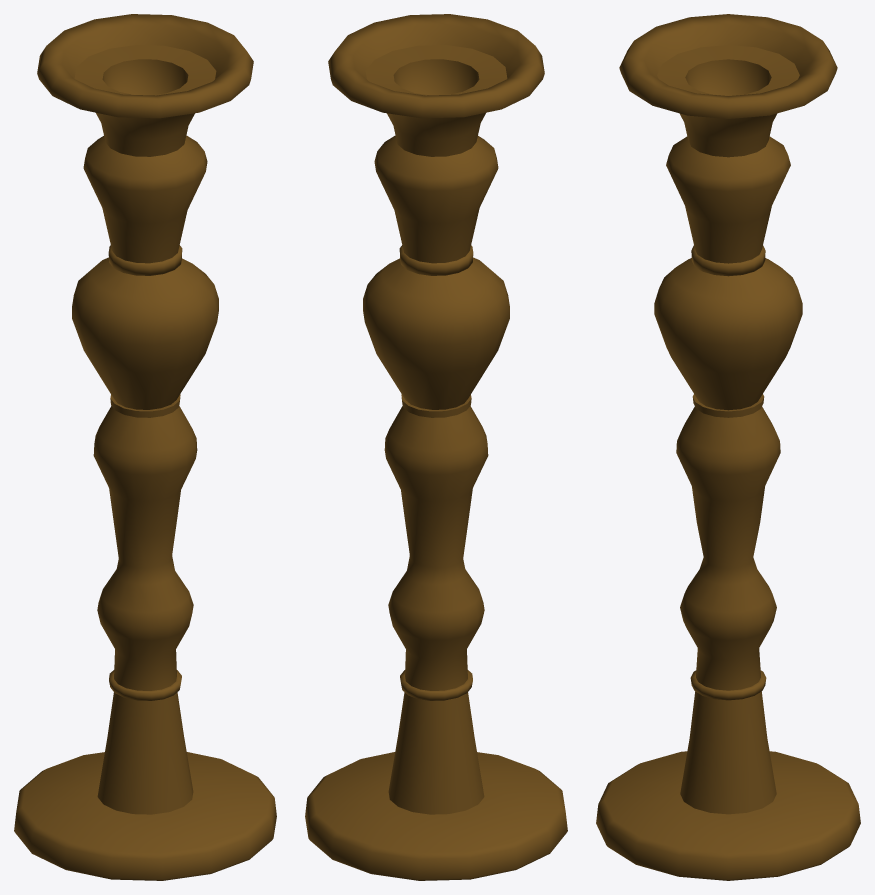
Rendered from Candle_holder_1.fbx.
The picture shows the model from 3 angles, left to right: view 1: azimuth 30°, elevation 25°; view 2: azimuth 150°, elevation 25°; view 3: azimuth 270°, elevation 25°; orthographic projection.
Parts seen in each view (by area): view 1: Candle_holder_1; view 2: Candle_holder_1; view 3: Candle_holder_1.
Part boxes in pixels (<box>): Candle_holder_1: <box>14,14,276,880</box>; Candle_holder_1: <box>305,14,567,880</box>; Candle_holder_1: <box>596,14,860,880</box>.
Size of the model in its own units: 8.5 by 27.2 by 8.5.
